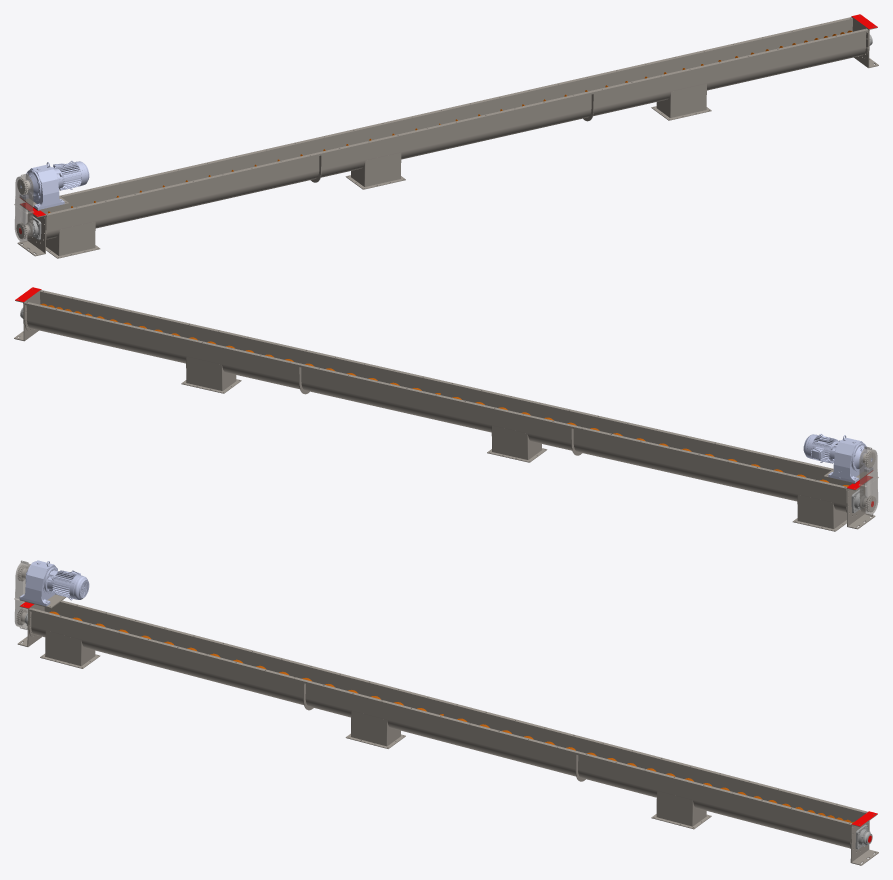
The model's file is assembly-04.glb.
The picture shows the model from 3 angles, top to bottom: view 1: azimuth 30°, elevation 25°; view 2: azimuth 150°, elevation 25°; view 3: azimuth 330°, elevation 25°; orthographic projection.
Parts seen in each view (by area): view 1: 編號4-9M螺運機.-1; view 2: 編號4-9M螺運機.-1; view 3: 編號4-9M螺運機.-1.
Part boxes in pixels (left/top/right/bottom): 編號4-9M螺運機.-1: left=14, top=14, right=878, bottom=258; 編號4-9M螺運機.-1: left=14, top=287, right=878, bottom=531; 編號4-9M螺運機.-1: left=14, top=560, right=878, bottom=865.
Size of the model in its own units: 9.32 by 1.07 by 0.36.
